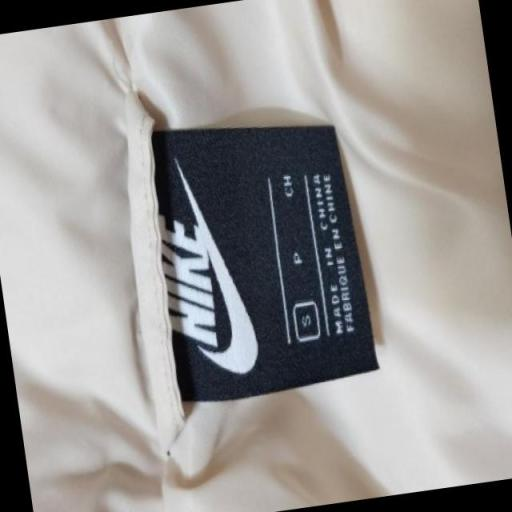Nike: (192, 190, 263, 376), (155, 207, 219, 352)
